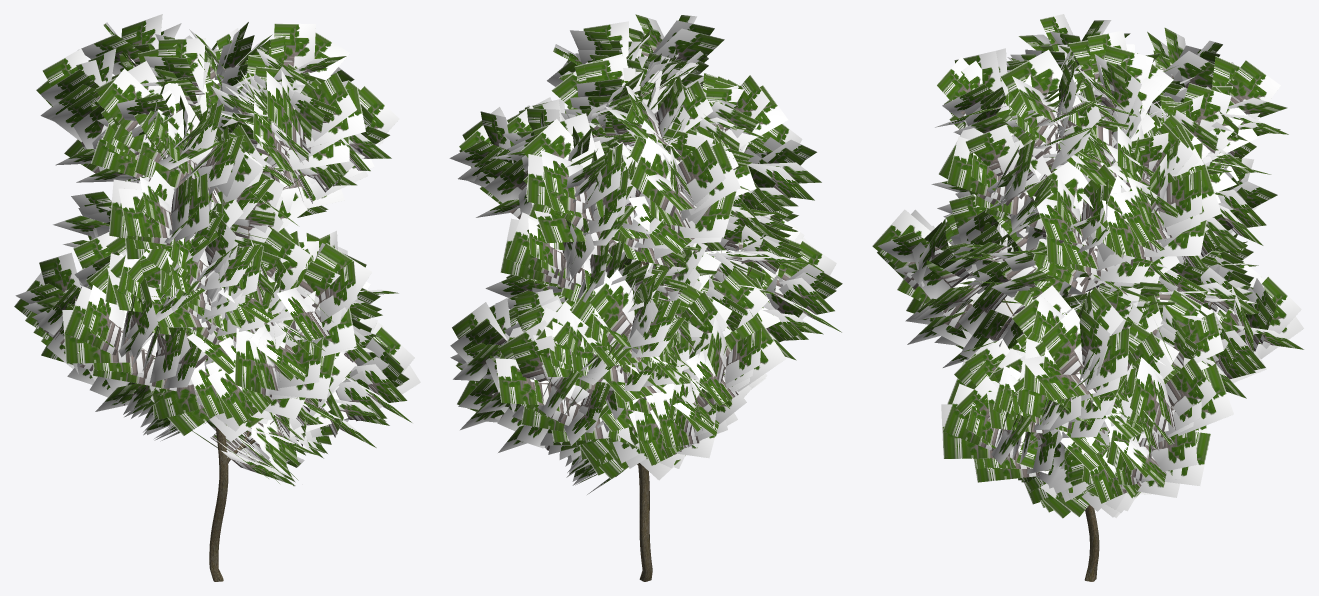
Rendered from real_tree_model1.glb.
3 renders of one model, left to right at view 1: azimuth 30°, elevation 25°; view 2: azimuth 150°, elevation 25°; view 3: azimuth 270°, elevation 25°, orthographic. The views are drawn at different scales.
Parts seen in each view (by area): view 1: Maple_1; view 2: Maple_1; view 3: Maple_1.
Part boxes in pixels (x1,y1,x2,y2): Maple_1: (14, 14, 420, 581); Maple_1: (449, 14, 842, 581); Maple_1: (872, 14, 1304, 581).
Size of the model in its own units: 11.8 by 17.87 by 12.86.
Materials: 2 (2 with a texture image).
